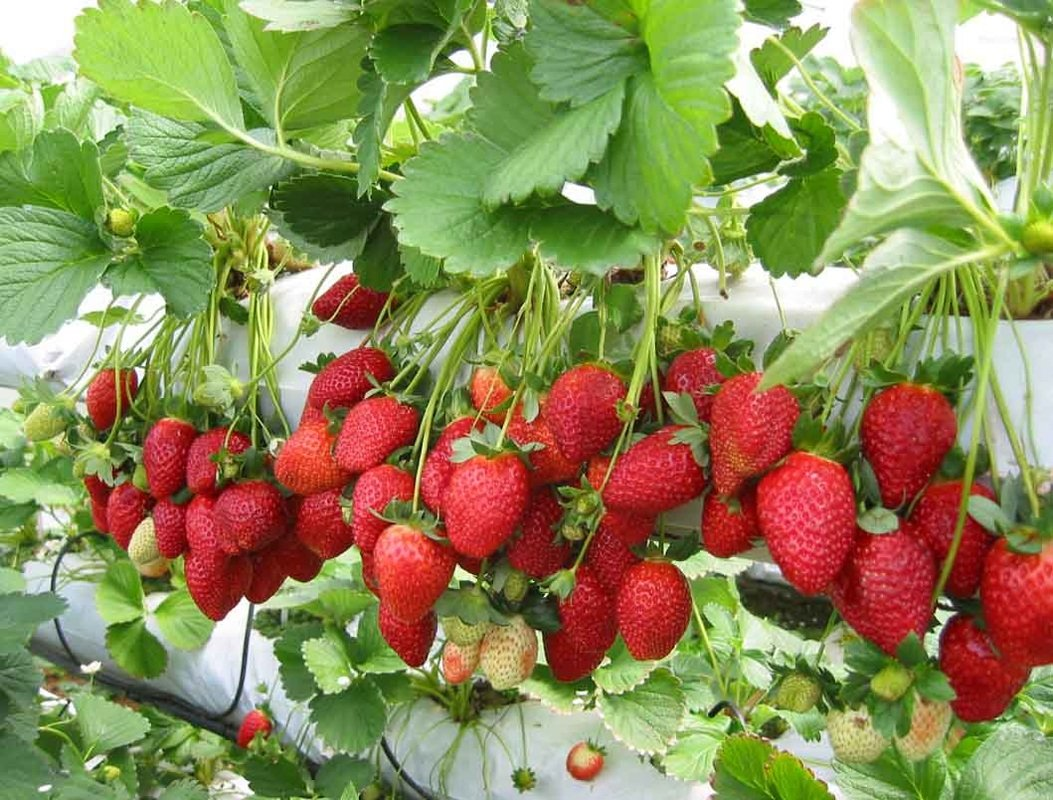ripe_strawberry: (753, 446, 859, 598), (827, 513, 937, 658), (706, 367, 805, 501), (858, 380, 958, 512), (909, 475, 1006, 604), (933, 609, 1035, 727), (979, 524, 1053, 672), (599, 421, 712, 517), (443, 446, 532, 560), (543, 360, 628, 467), (374, 518, 455, 626), (548, 561, 618, 683), (615, 554, 692, 664), (503, 390, 584, 489), (418, 414, 488, 522), (272, 408, 356, 495), (335, 393, 424, 472), (211, 477, 294, 558), (503, 483, 572, 579), (307, 346, 397, 415), (349, 463, 416, 555), (183, 550, 256, 625), (312, 271, 400, 333), (663, 345, 730, 423), (142, 414, 202, 501), (184, 426, 255, 499), (699, 486, 763, 561), (294, 485, 357, 560), (375, 600, 440, 668), (83, 446, 132, 536), (183, 494, 243, 555), (107, 478, 157, 551), (87, 364, 139, 432), (242, 546, 290, 606), (472, 358, 513, 427), (278, 529, 326, 583), (152, 497, 189, 560), (236, 708, 276, 749)
unripe_strawberry: (480, 612, 542, 693), (826, 698, 892, 768), (892, 689, 952, 762), (438, 581, 495, 647), (21, 392, 78, 444), (775, 670, 822, 716), (126, 514, 164, 567), (869, 659, 917, 700), (441, 638, 481, 685), (567, 740, 607, 783)
